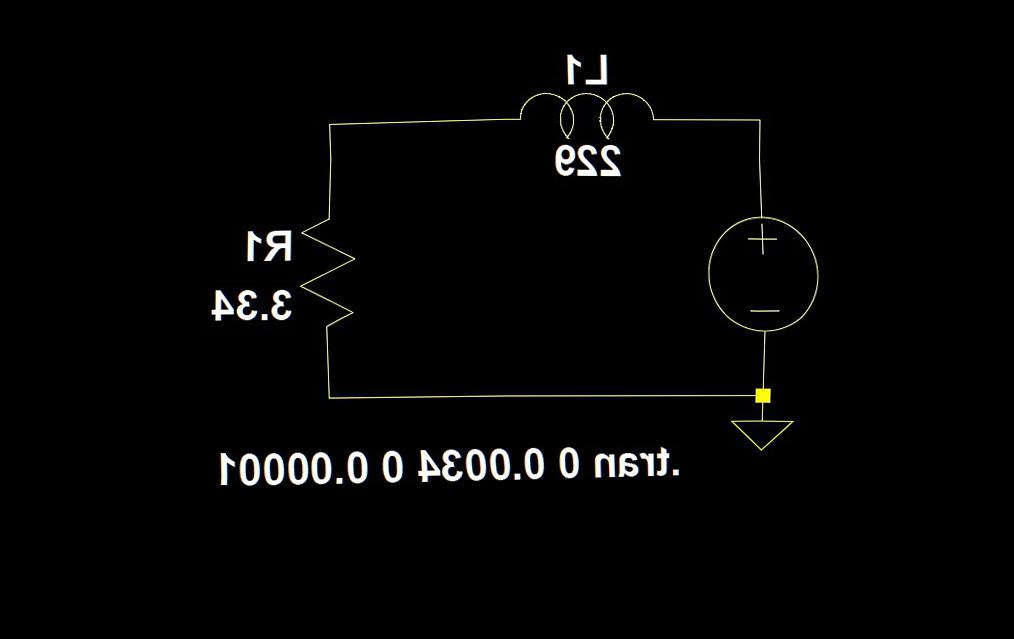Battery: (659, 187, 856, 354)
